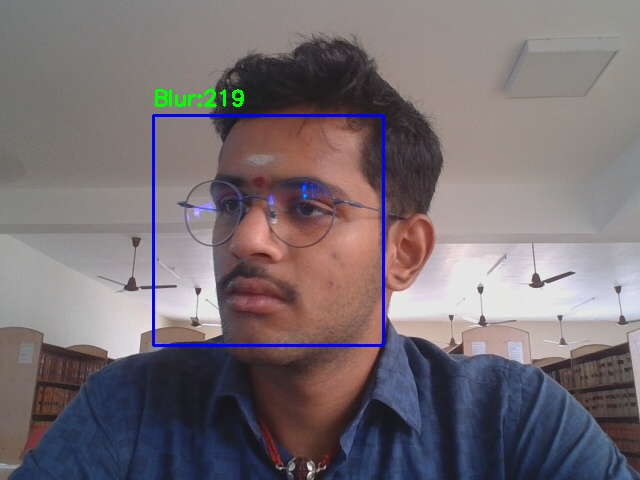real: (153, 115, 383, 345)
